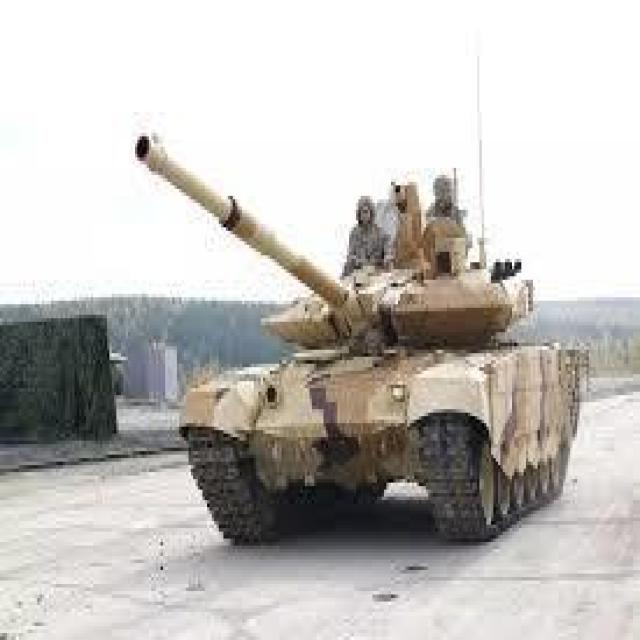Tanks: (132, 133, 600, 552)
